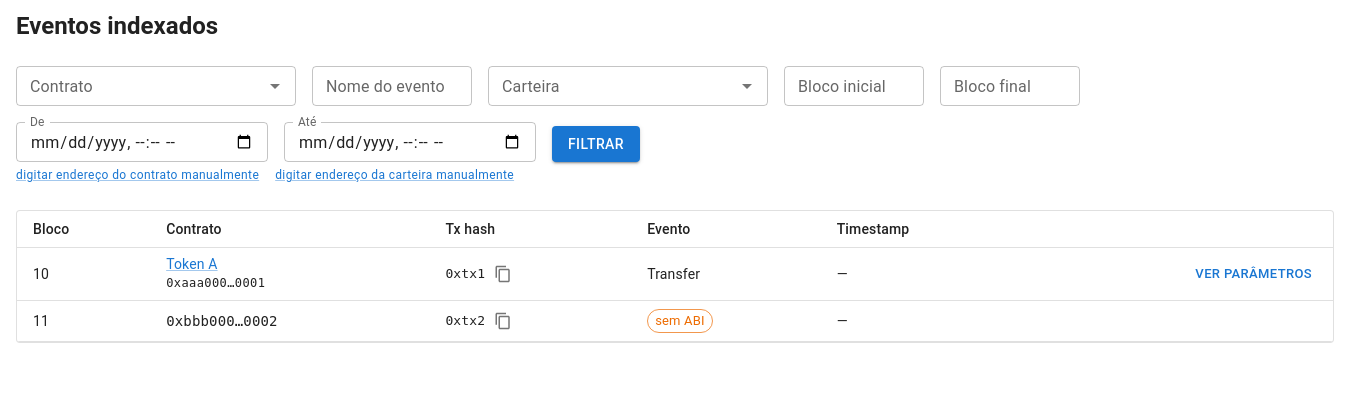
EventsPage › rotula evento raw como "sem ABI" com tooltip explicativo
Hover over the text "sem ABI".
mouse_move(680, 321)  # box [655, 313, 705, 328]
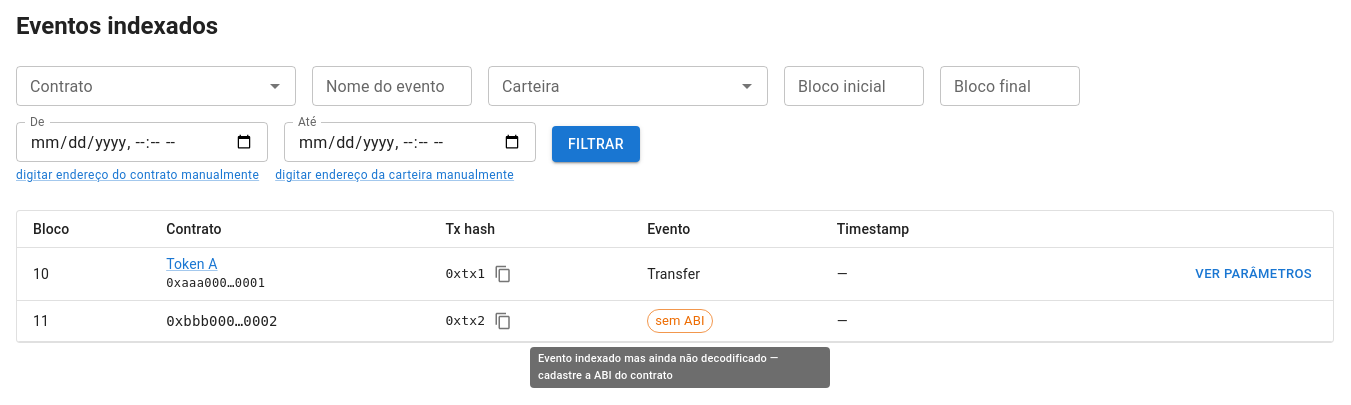
Result: the text "ainda não decodificado — cadastre a ABI" is shown at [538, 352, 778, 382]
